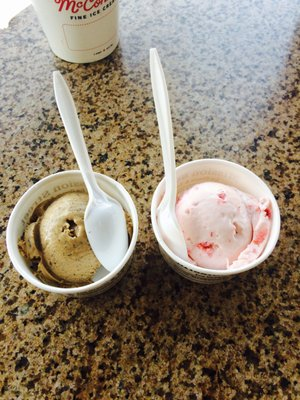salad: (51, 70, 135, 275)
sushi: (5, 169, 137, 298), (150, 157, 281, 285)
